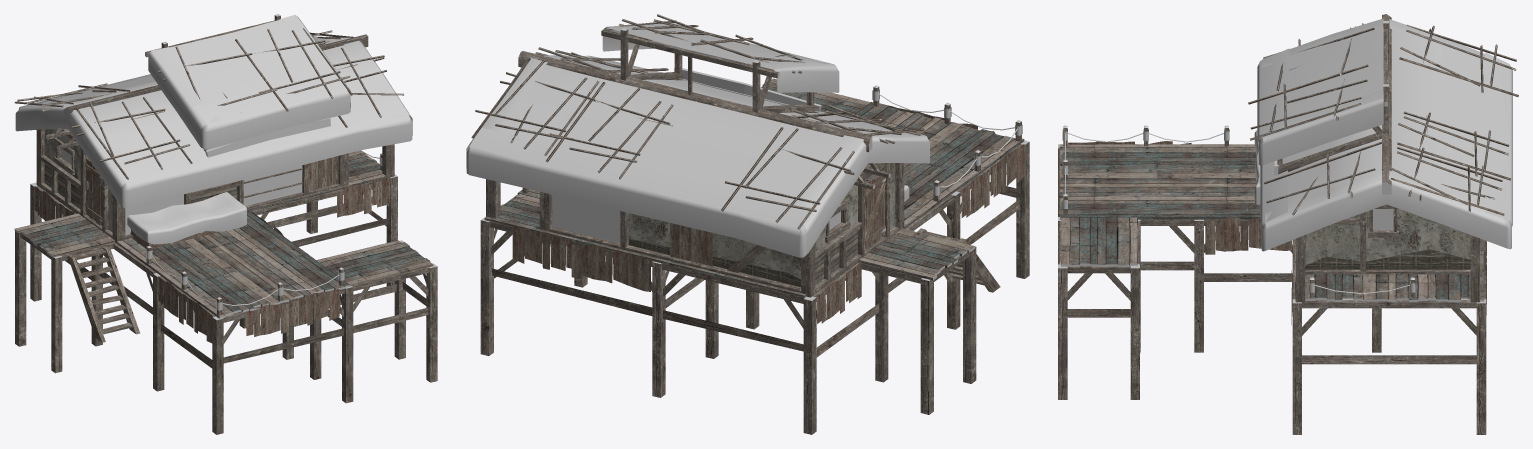
File: House6_LOD1.fbx
3 views of the same model, side by side, from view 1: azimuth 30°, elevation 25°; view 2: azimuth 150°, elevation 25°; view 3: azimuth 270°, elevation 25° (orthographic). The views are drawn at different scales.
Visible parts, largest first — view 1: Base, Stairs, Doors; view 2: Base, Doors, Stairs; view 3: Base.
Boxes of the visible parts, left/top/right/bottom form: Base: left=14, top=14, right=437, bottom=434; Stairs: left=67, top=246, right=140, bottom=342; Doors: left=84, top=158, right=102, bottom=225; Base: left=466, top=14, right=1029, bottom=434; Doors: left=865, top=170, right=885, bottom=249; Stairs: left=917, top=228, right=1000, bottom=292; Base: left=1058, top=14, right=1518, bottom=434.
Bounding box in the file's own units: 14.84 × 10.61 × 14.54.
